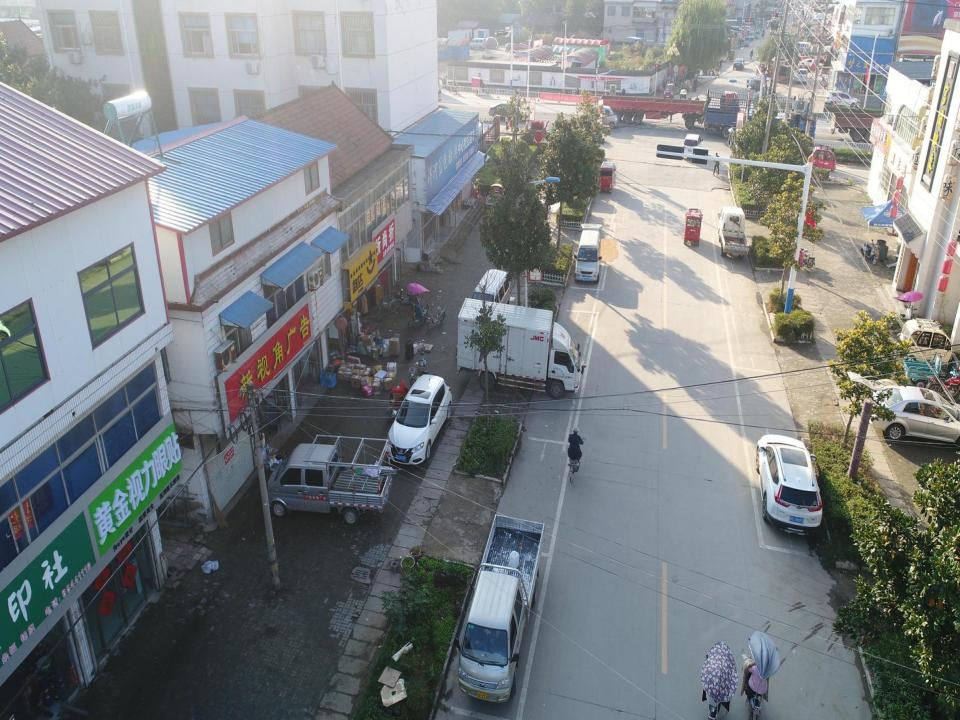car: (755, 431, 826, 540), (865, 379, 959, 448), (384, 373, 452, 466), (826, 88, 864, 117), (487, 101, 523, 121), (680, 131, 704, 160), (745, 73, 762, 90), (662, 81, 675, 101), (798, 57, 819, 69), (796, 66, 809, 84), (733, 57, 745, 71)
truck: (452, 512, 546, 705), (262, 433, 400, 523), (694, 83, 822, 147), (599, 85, 745, 132), (829, 100, 943, 154), (717, 205, 749, 259), (402, 65, 443, 105)
van: (470, 267, 512, 319), (573, 220, 603, 284), (586, 101, 618, 131), (807, 144, 838, 173), (468, 37, 487, 51), (792, 41, 810, 55), (808, 16, 822, 26), (729, 24, 740, 35), (740, 25, 751, 34), (755, 16, 765, 24)
